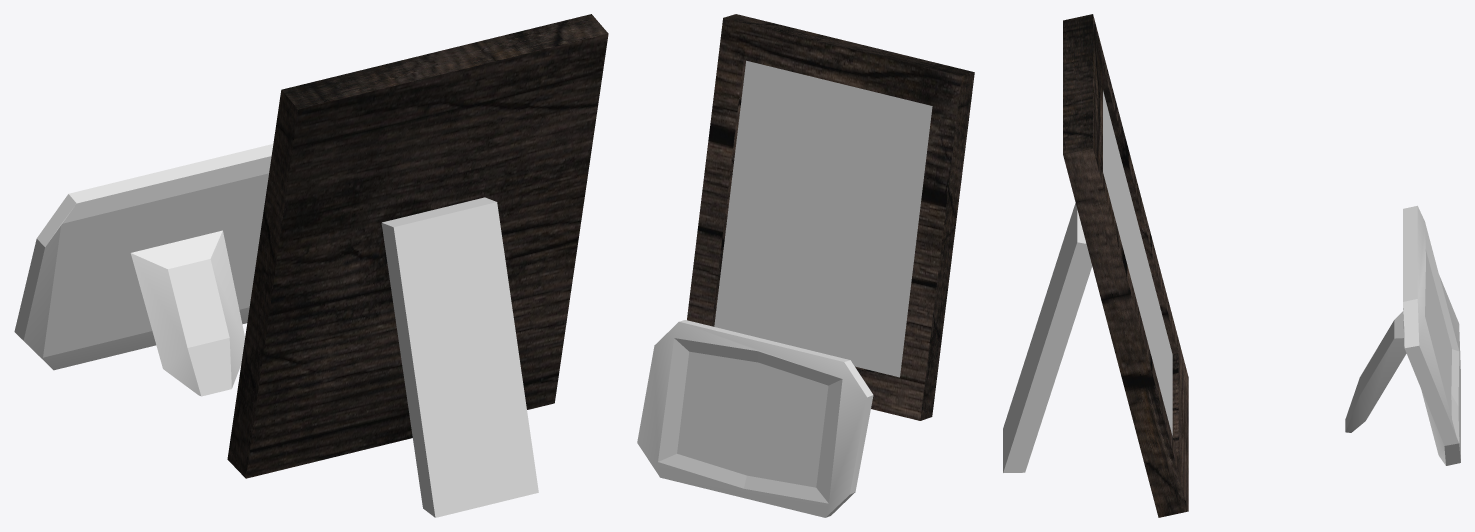
File: PictureFrames.fbx
3 views of the same model, side by side, from view 1: azimuth 30°, elevation 25°; view 2: azimuth 150°, elevation 25°; view 3: azimuth 270°, elevation 25° (orthographic). The views are drawn at different scales.
Visible parts, largest first — view 1: FramedPic, FramedPic2; view 2: FramedPic, FramedPic2; view 3: FramedPic, FramedPic2.
Part boxes in pixels (x1=…): FramedPic: x1=227, y1=14, x2=608, y2=517; FramedPic2: x1=14, y1=144, x2=273, y2=396; FramedPic: x1=687, y1=14, x2=974, y2=420; FramedPic2: x1=637, y1=320, x2=873, y2=517; FramedPic: x1=1003, y1=14, x2=1188, y2=517; FramedPic2: x1=1345, y1=205, x2=1460, y2=465.
Size of the model in its own units: 21.49 by 23.62 by 25.86.
